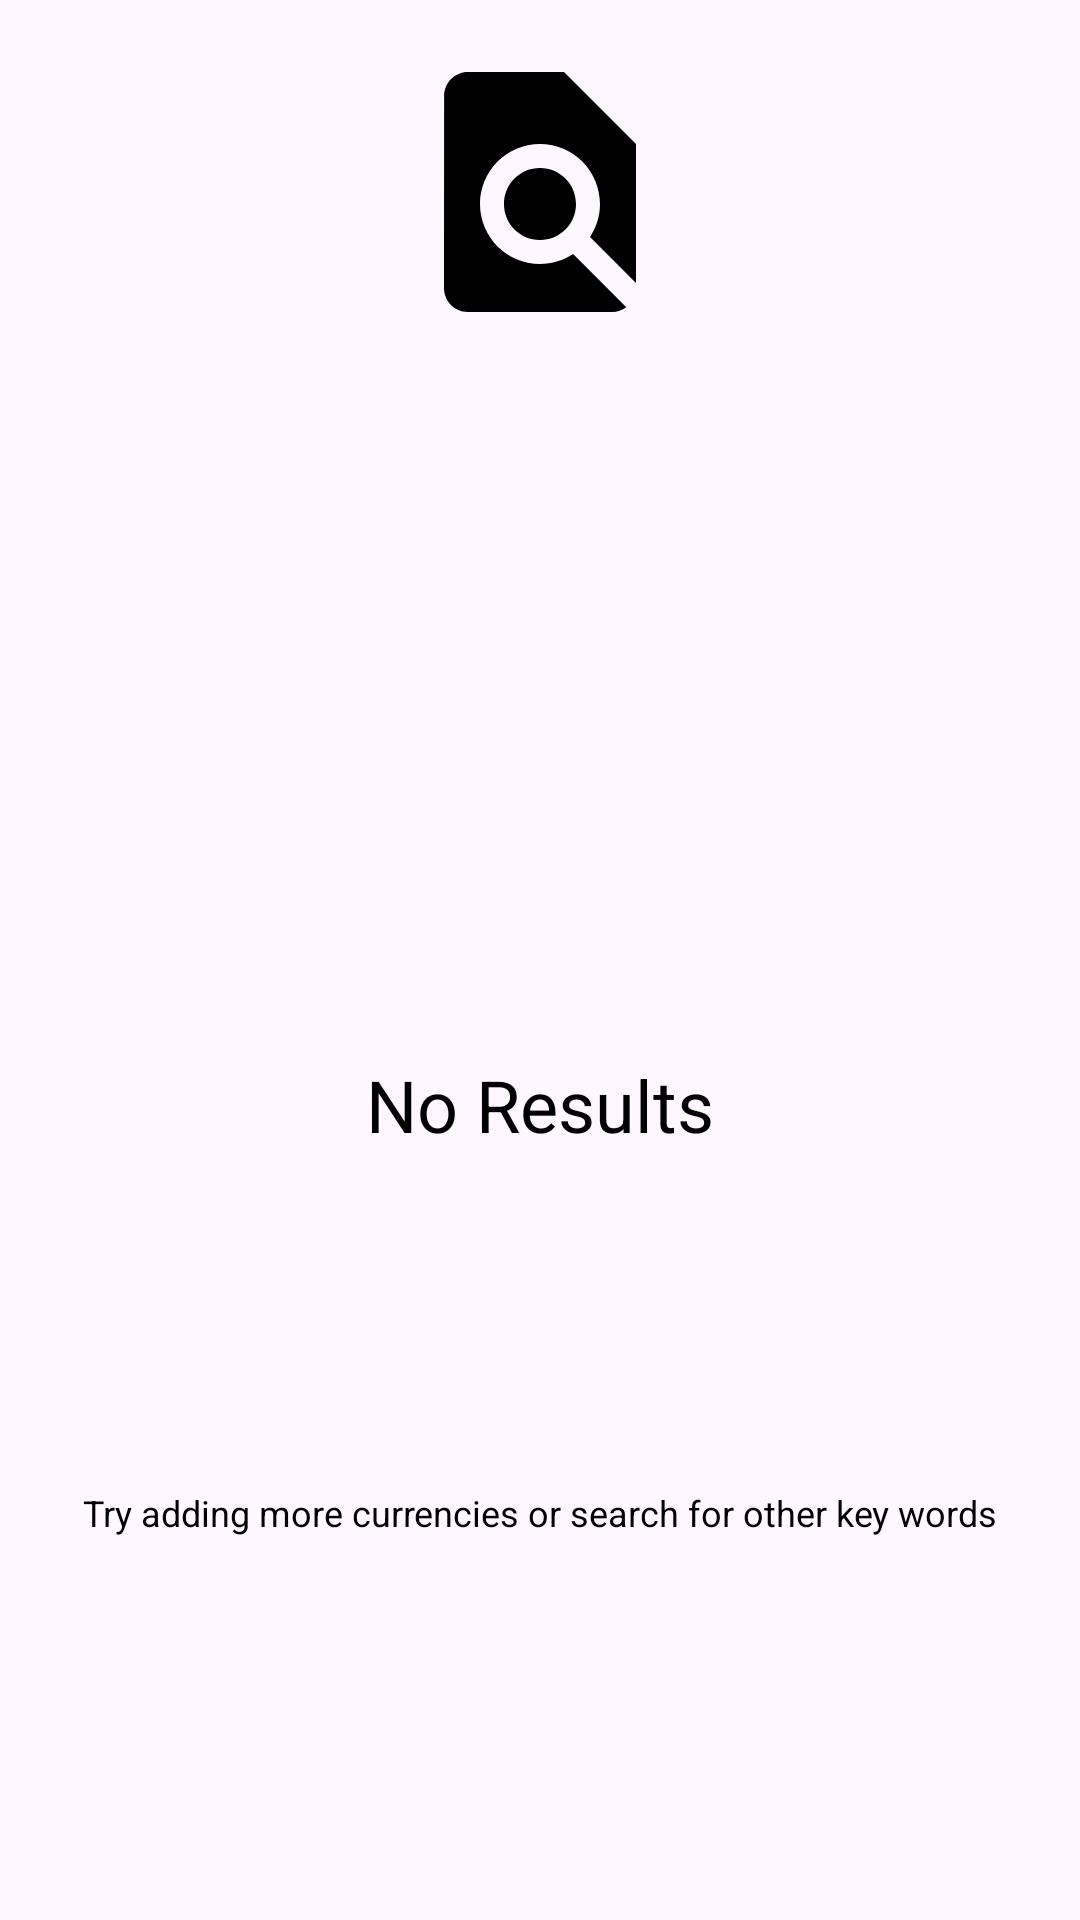

Point at icon controls on the screen. Image size 1080 × 1920, points as (x=x, y=y).
not found: (x=540, y=192)
